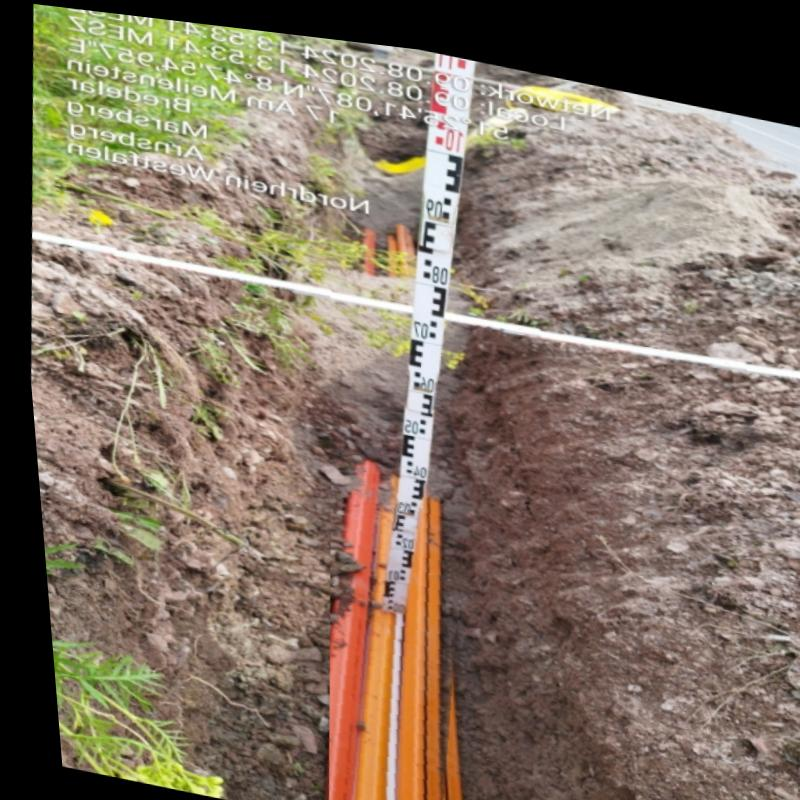Orang-Speednetrohrchen: (315, 455, 433, 800)
